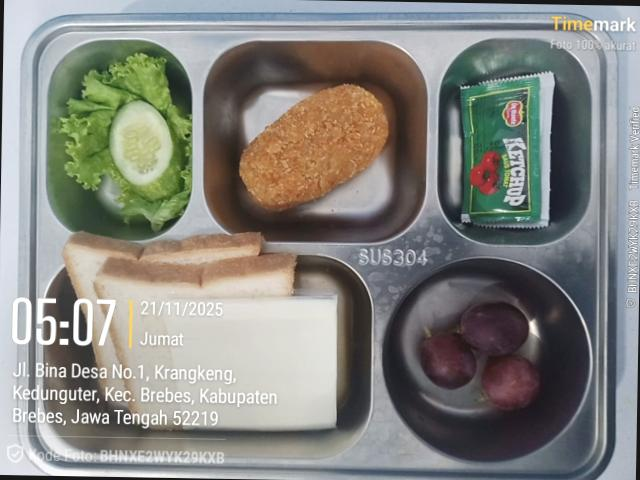ayam: (240, 84, 388, 211)
buah: (420, 299, 540, 409)
keju: (164, 296, 338, 430)
roti: (63, 232, 296, 416)
sayur: (57, 53, 191, 230)
